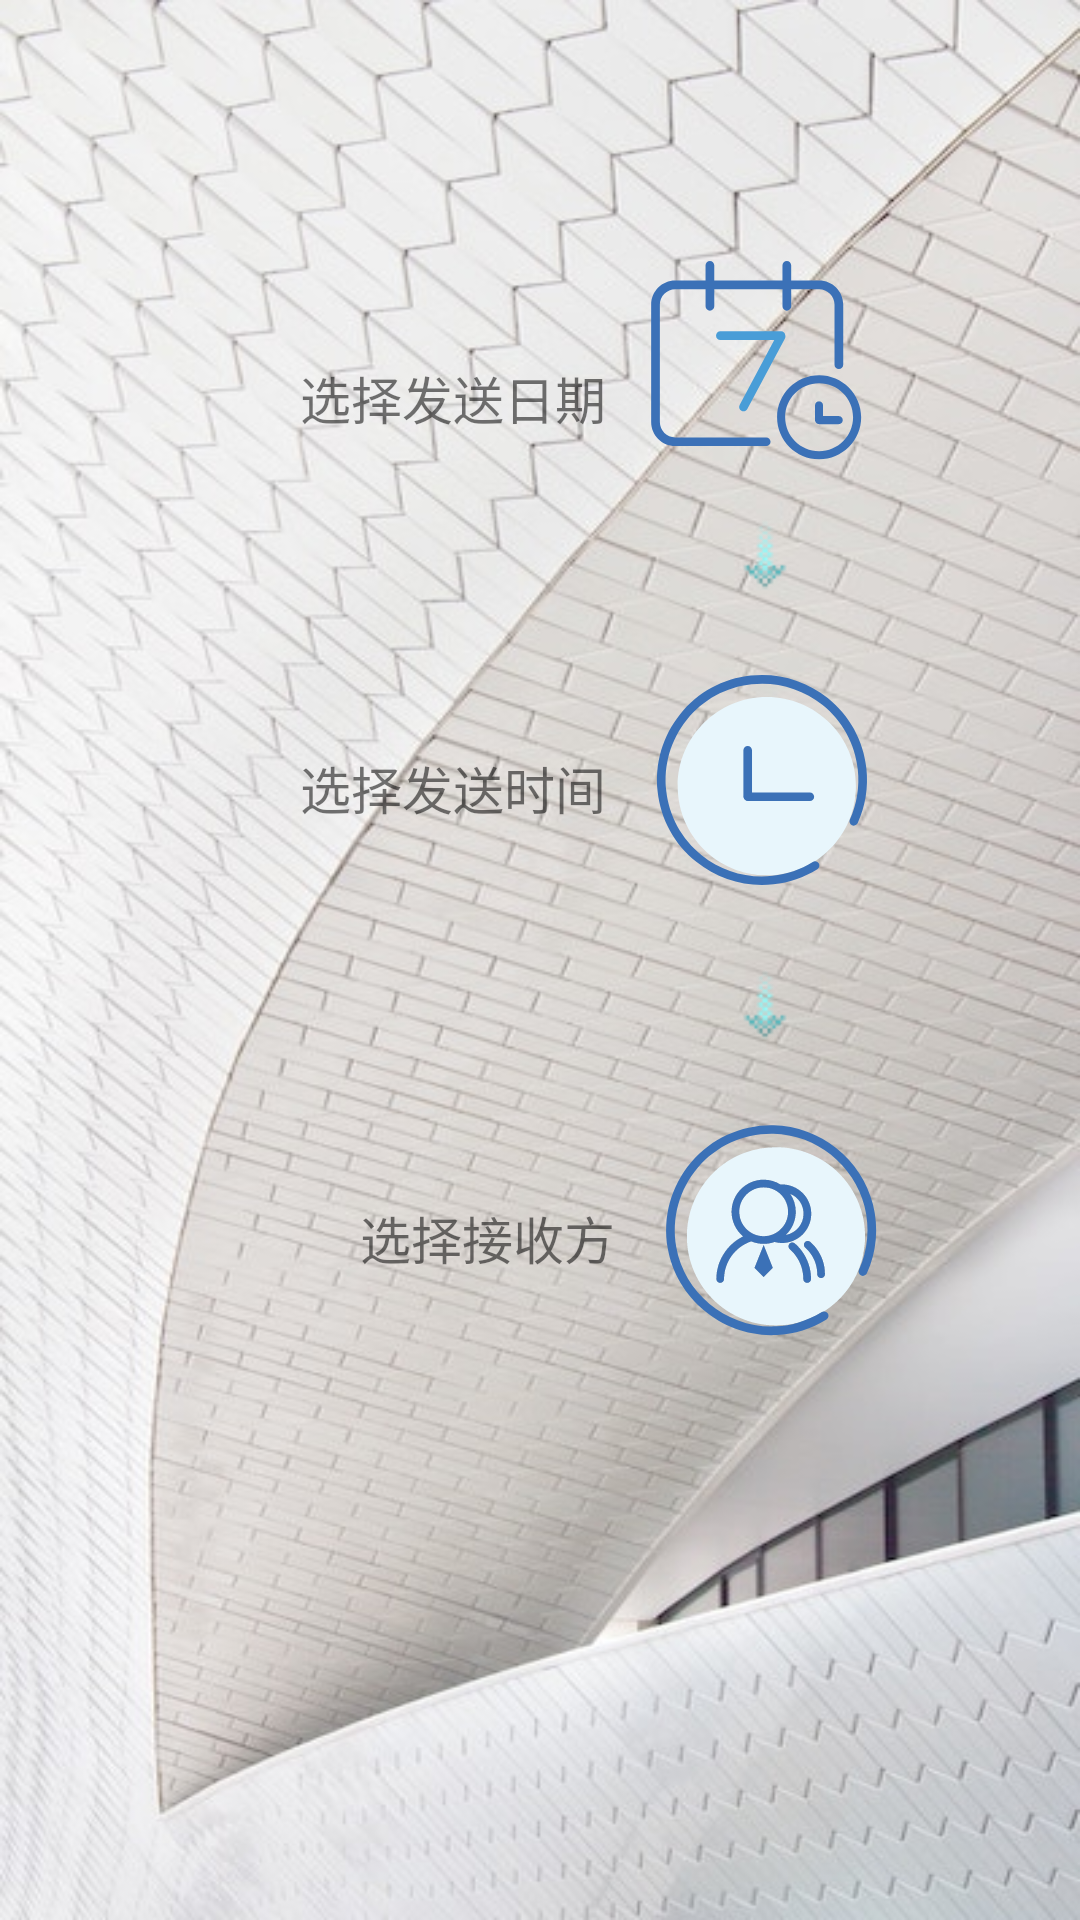

Screen size 1080px×1920px. Icon name, then its box in pixels as (x1, y1, x2, y2):
todate: (636, 240, 876, 480)
tofriend: (615, 1080, 927, 1380)
